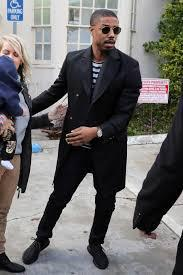Person: (40, 10, 141, 267)
